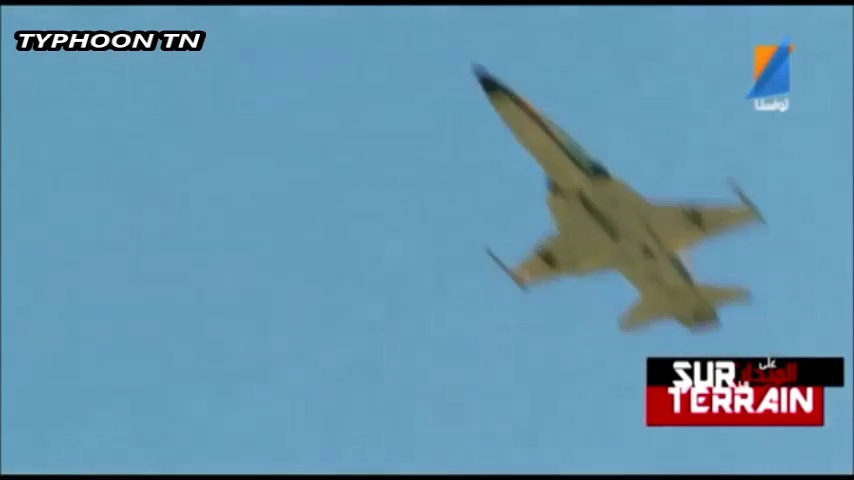Airplane: (468, 58, 767, 334)
